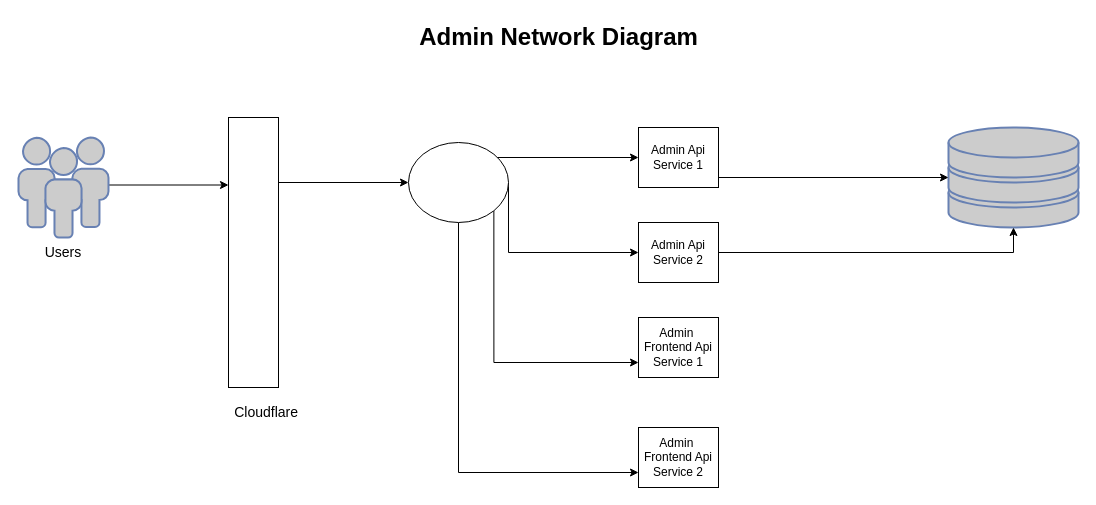
Some shapes in this 1096 by 505 pixel diagram are drawn without their labels. The centre of each missing label's shape, as x and y in pixels:
Card Database: [1013,177]
Nginx: [458,182]
